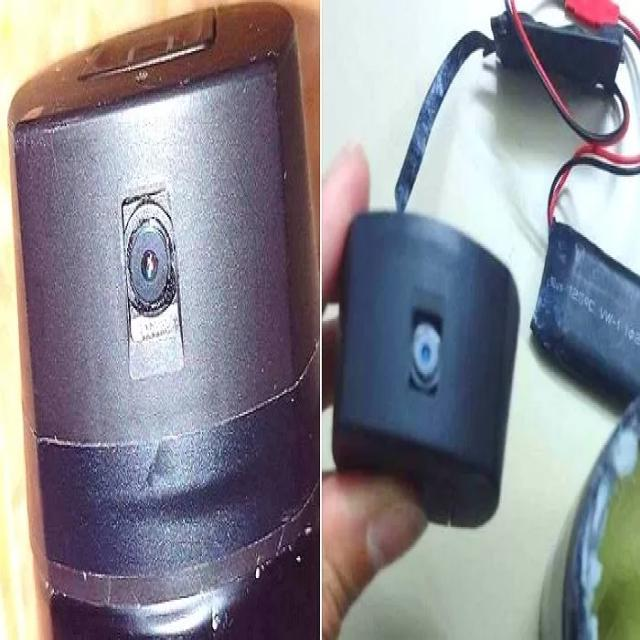hidden camera: (139, 246, 159, 286), (421, 341, 433, 365)
